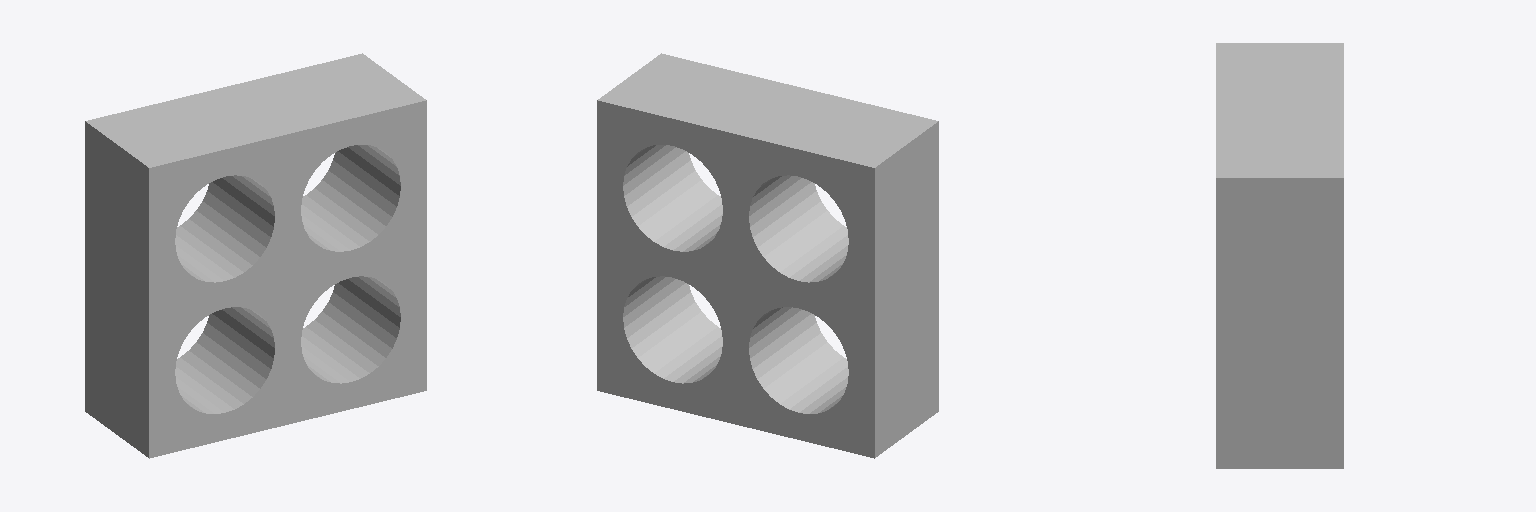
3 renders of one model, left to right at view 1: azimuth 30°, elevation 25°; view 2: azimuth 150°, elevation 25°; view 3: azimuth 270°, elevation 25°, orthographic.
Parts seen in each view (by area): view 1: base; view 2: base; view 3: base.
Boxes of the visible parts, <box> form: base: <box>85,53,426,458</box>; base: <box>597,53,938,458</box>; base: <box>1216,43,1343,468</box>.
Bounding box in the file's own units: 0.075 × 0.075 × 0.03.